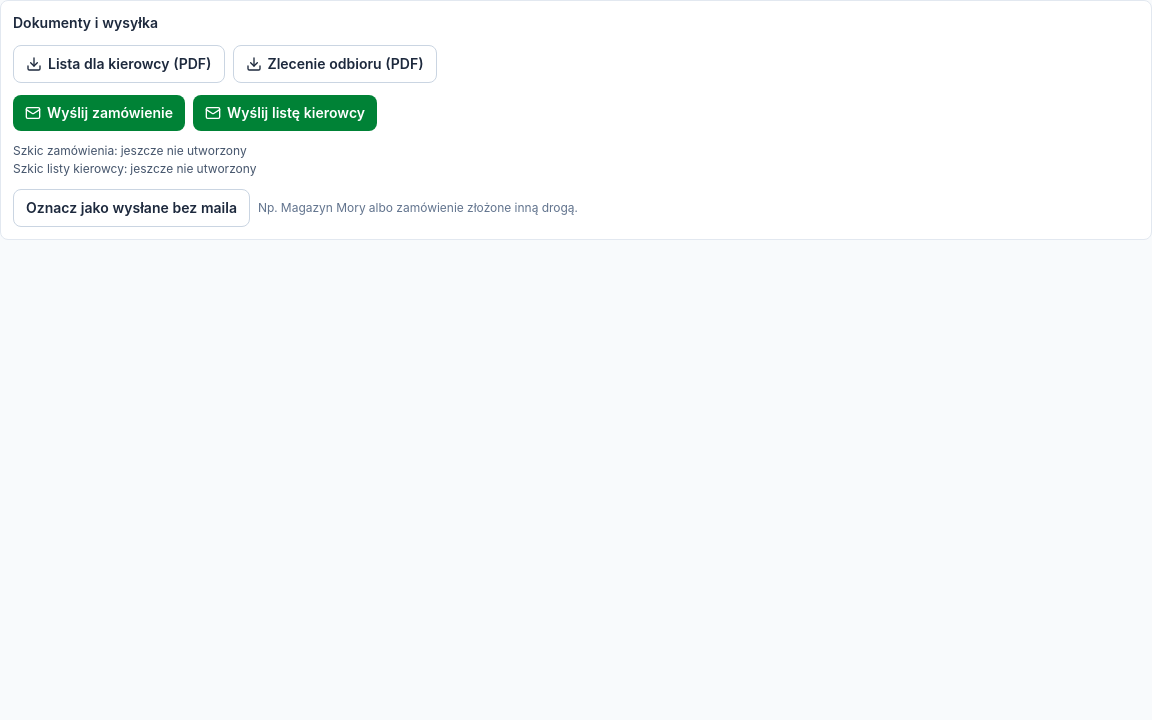
Test case: TransportSendPanel — order on a draft batch › a finalize failure creates no draft
Click the button "Wyślij zamówienie" at (99, 113), box [13,95,185,131]
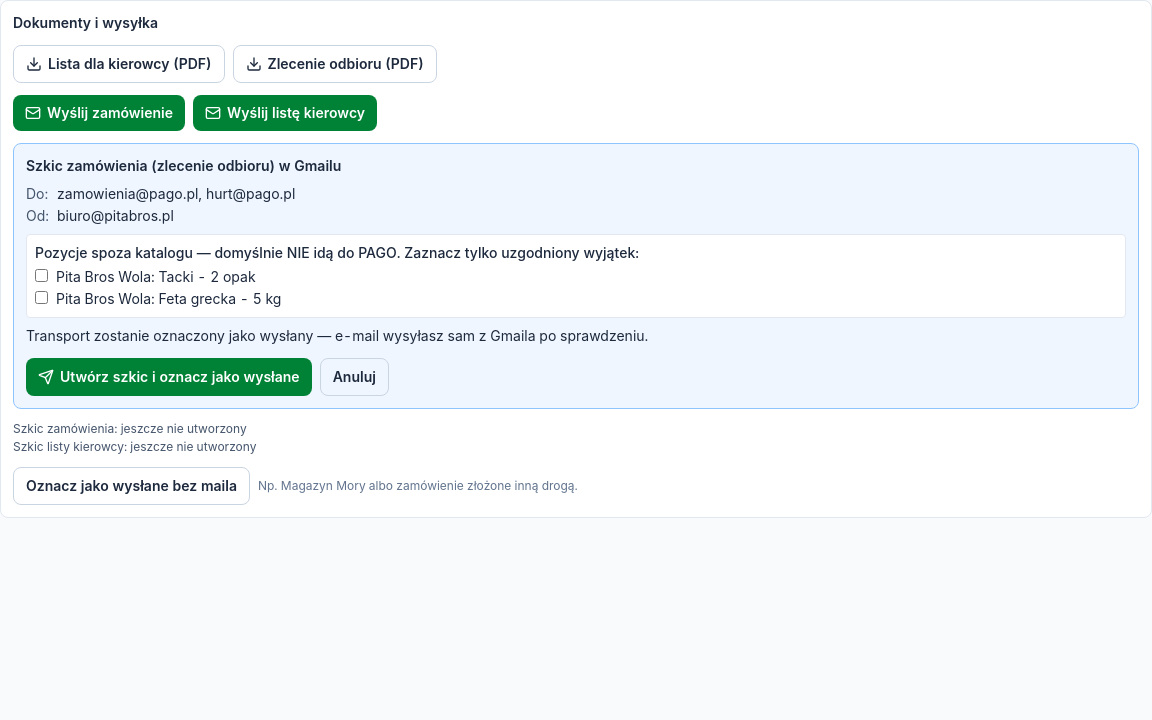
Click the button "Utwórz szkic i oznacz jako wysłane" at (169, 377), box [26,358,312,396]
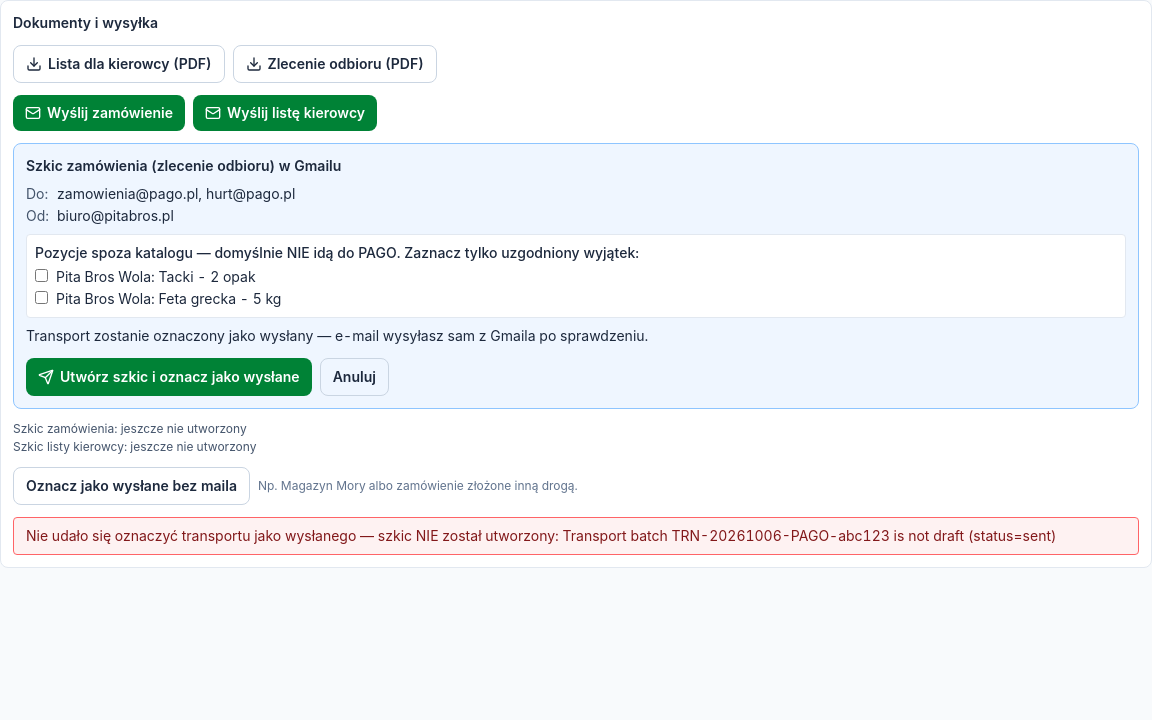
Result: the message shows "szkic NIE został utworzony" at [26,527,1056,544]
Result: the message shows "is not draft" at [26,527,1056,544]
